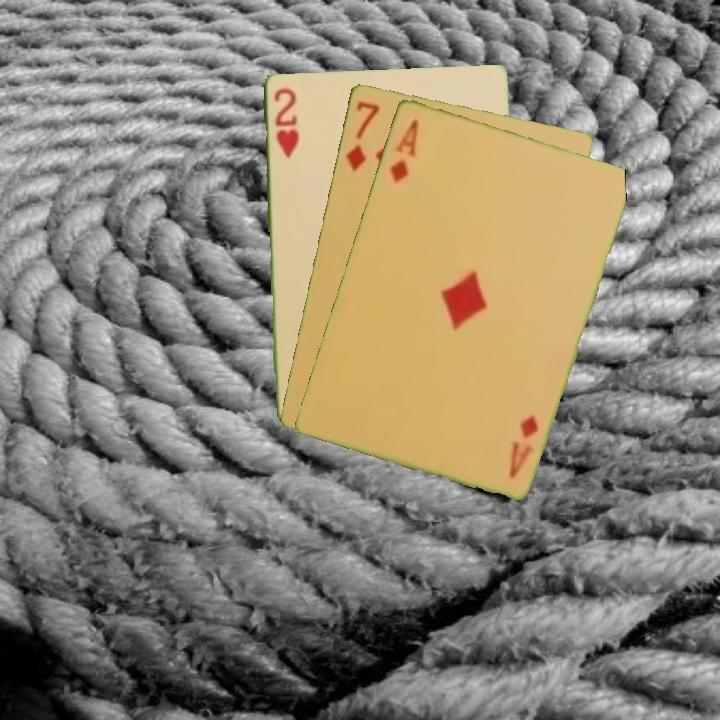2h: (270, 84, 301, 161)
7d: (342, 96, 382, 173)
Ad: (505, 412, 542, 481), (386, 114, 421, 186)
